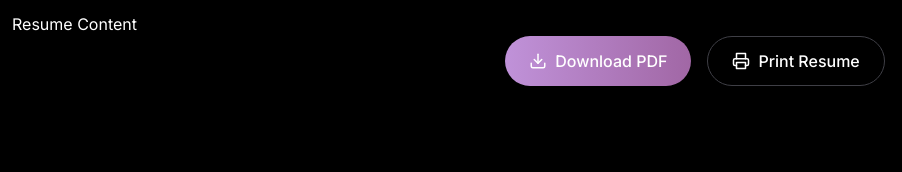
it: ResumeActions Component › calls generateResumePDF when download button is clicked
Step 1. Click the button "Download PDF" → (598, 61), box [505, 36, 691, 86]
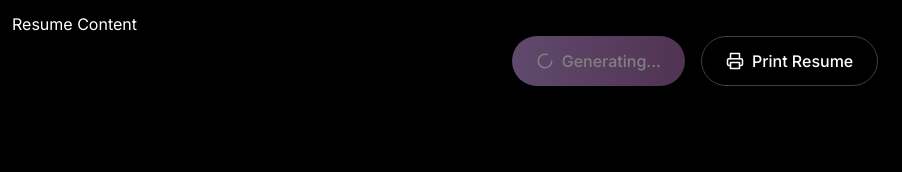
Now the button "Generating..." is shown, box [512, 36, 685, 86]
